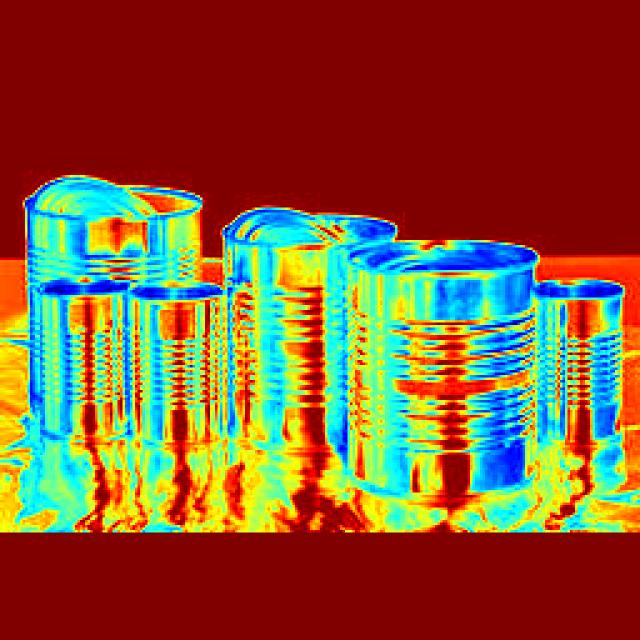Aluminium Food Cans: (342, 240, 542, 507), (219, 205, 393, 451), (534, 274, 629, 504), (19, 177, 219, 281), (32, 270, 126, 451), (127, 274, 223, 440)
